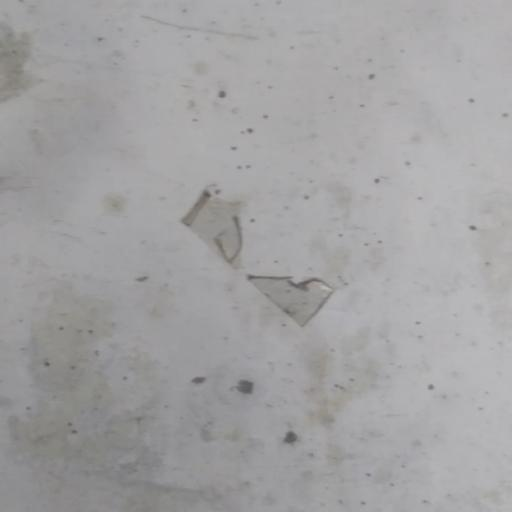stain: (183, 172, 349, 347), (191, 416, 265, 456), (178, 365, 219, 399), (231, 364, 259, 408), (283, 421, 294, 456)
